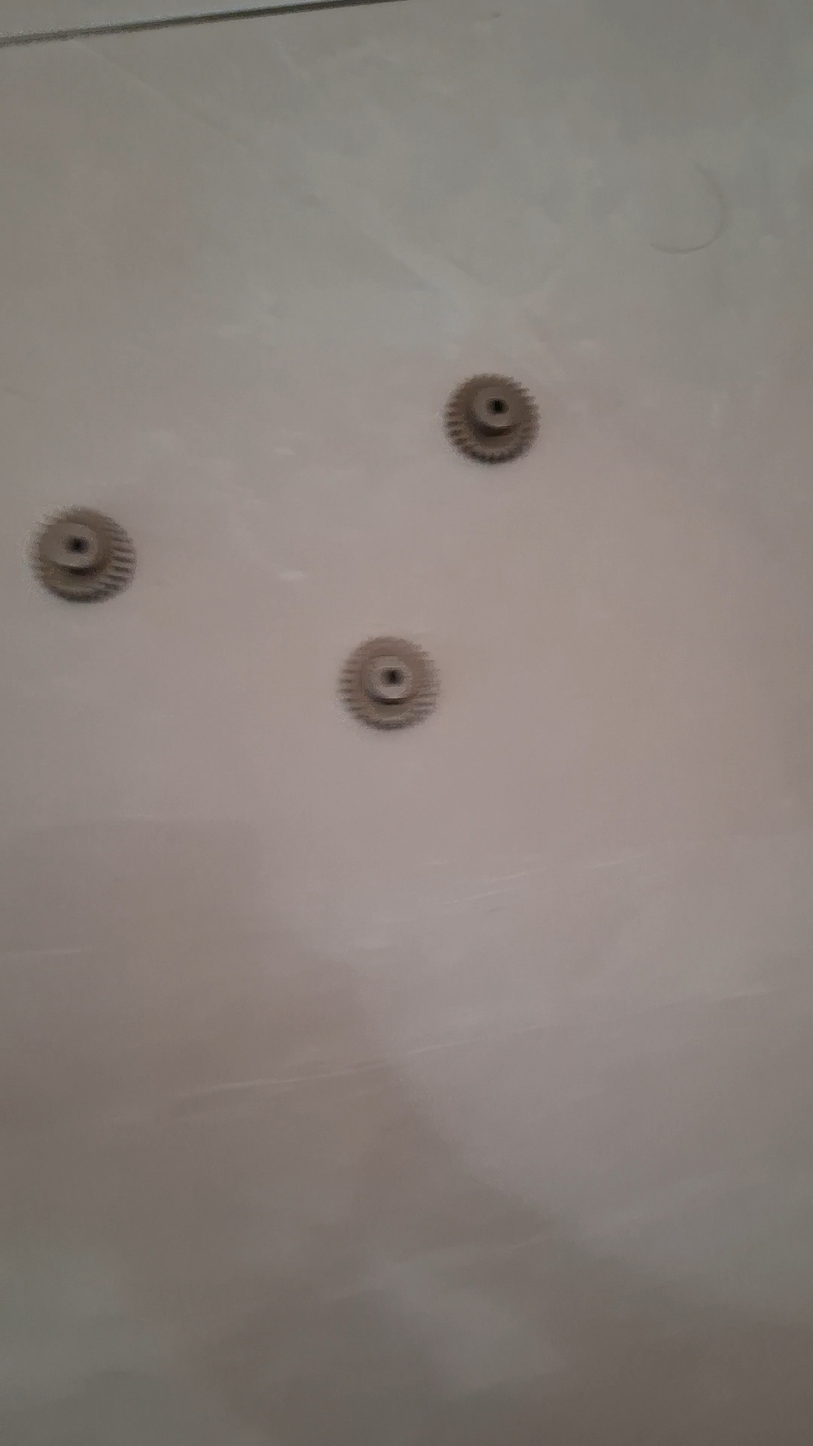spur gear: (32, 508, 135, 601), (340, 637, 438, 729), (445, 374, 538, 463)
